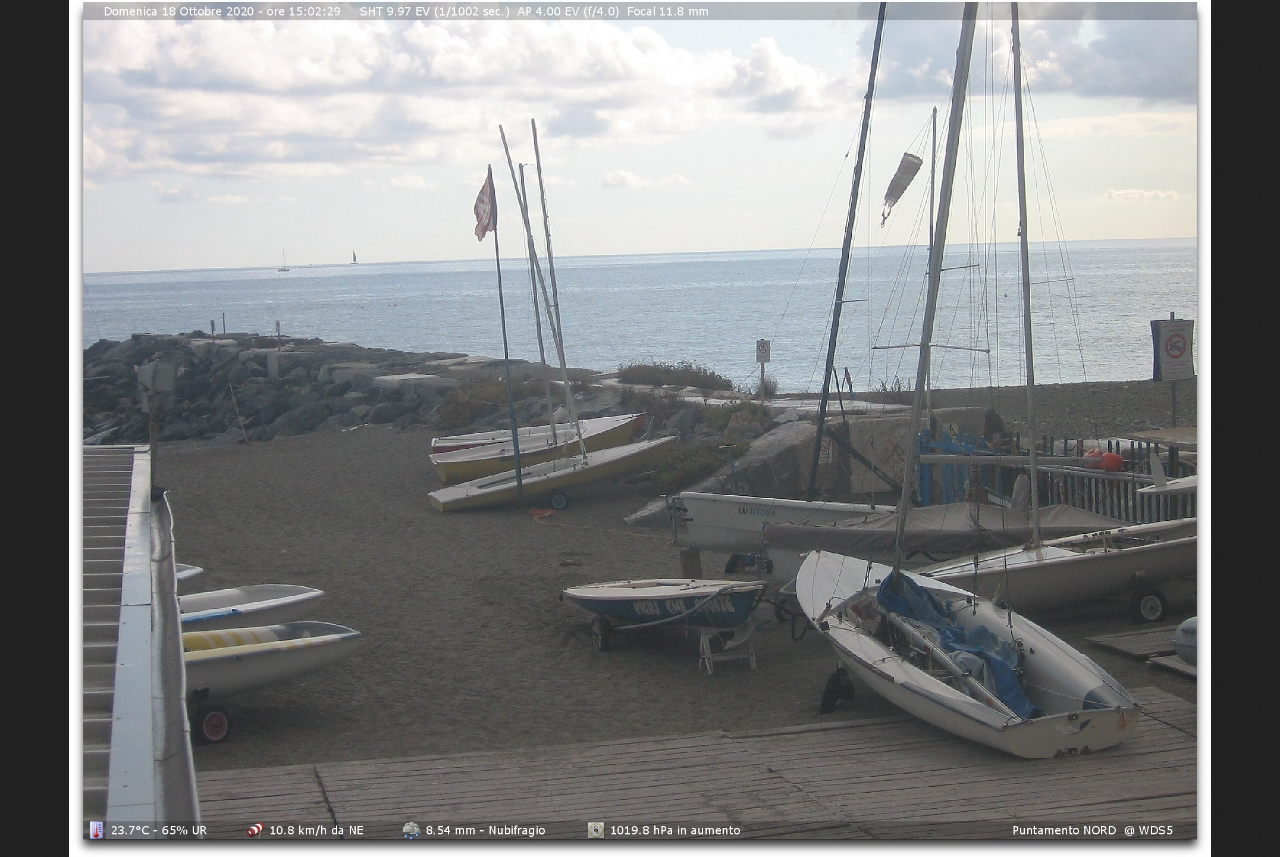maybe: (472, 163, 498, 243)
